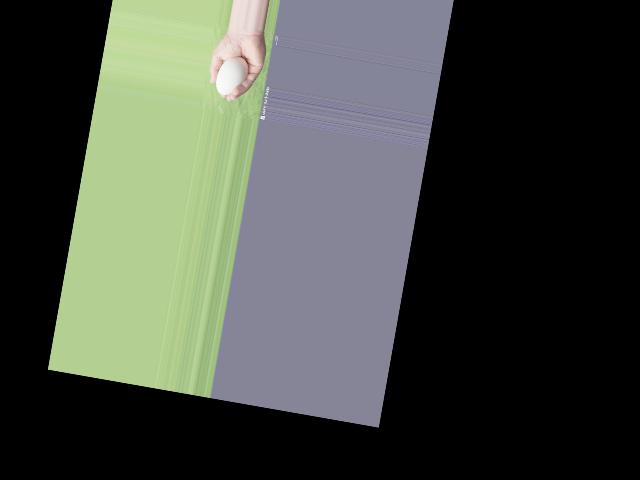egg: (214, 52, 251, 97)
